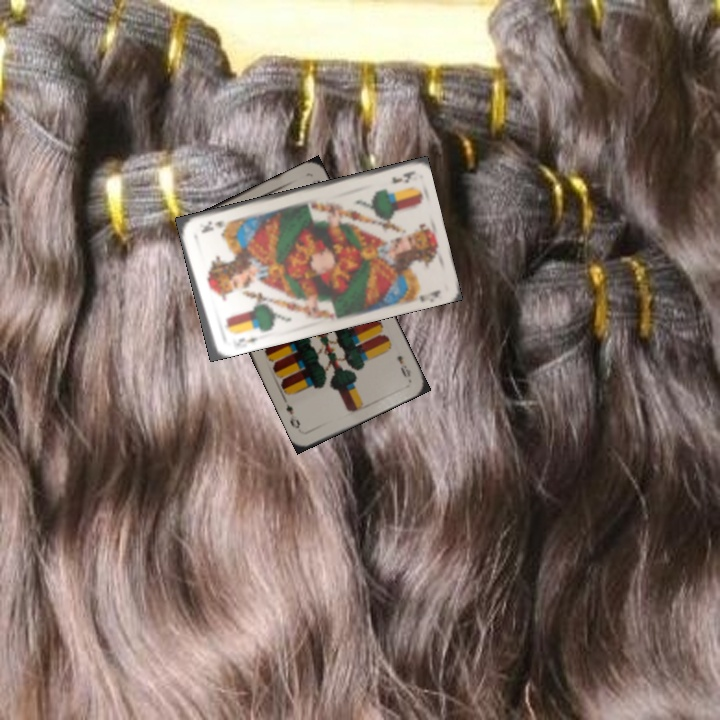E9: (393, 351, 413, 380)
EK: (388, 167, 415, 186), (229, 332, 262, 347)
